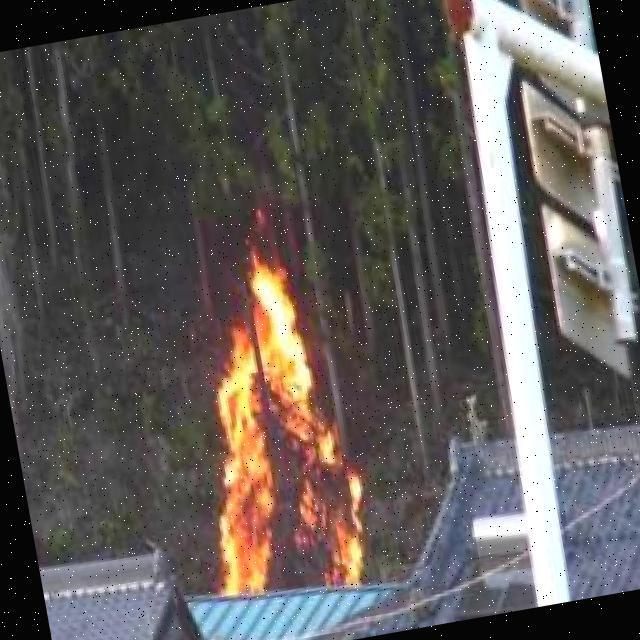Fire: (175, 248, 377, 603)
